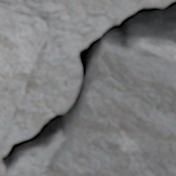brick: (50, 43, 175, 175), (0, 6, 45, 143)
crack: (0, 0, 175, 175)
